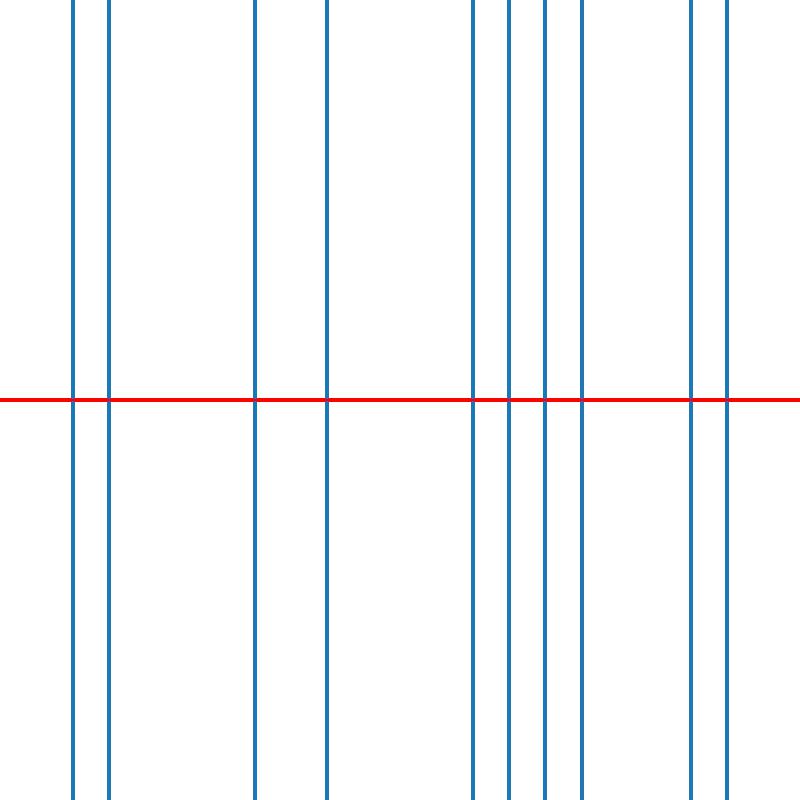root: (250, 396, 258, 404), (541, 396, 549, 404), (69, 396, 76, 404), (578, 396, 585, 404), (723, 396, 730, 404), (469, 396, 476, 404), (323, 396, 330, 404), (105, 396, 112, 404), (505, 396, 512, 404), (687, 396, 694, 404)
